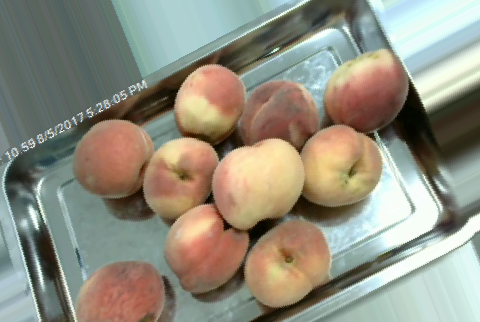Peach: (243, 216, 330, 306), (324, 48, 410, 135), (216, 138, 298, 228), (163, 204, 242, 293), (298, 124, 382, 207), (143, 133, 217, 221), (73, 118, 152, 199), (235, 76, 319, 150), (72, 261, 169, 321), (175, 64, 245, 141)
